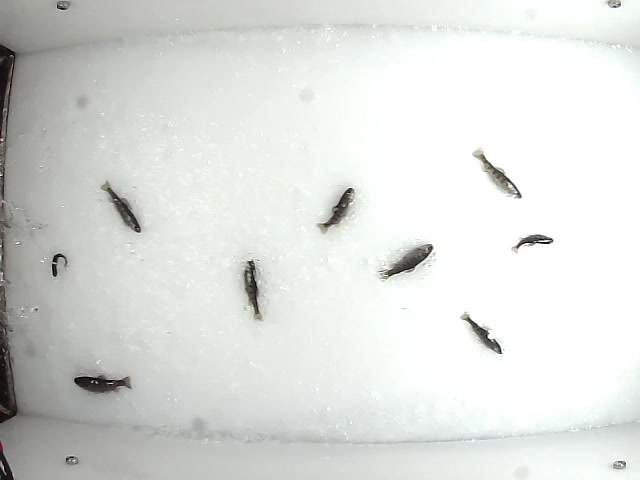fish: (471, 146, 523, 201), (99, 178, 142, 234), (375, 241, 435, 281), (458, 310, 506, 357), (315, 187, 355, 234), (71, 370, 133, 395), (242, 255, 264, 324), (509, 232, 554, 255), (50, 252, 71, 278)
